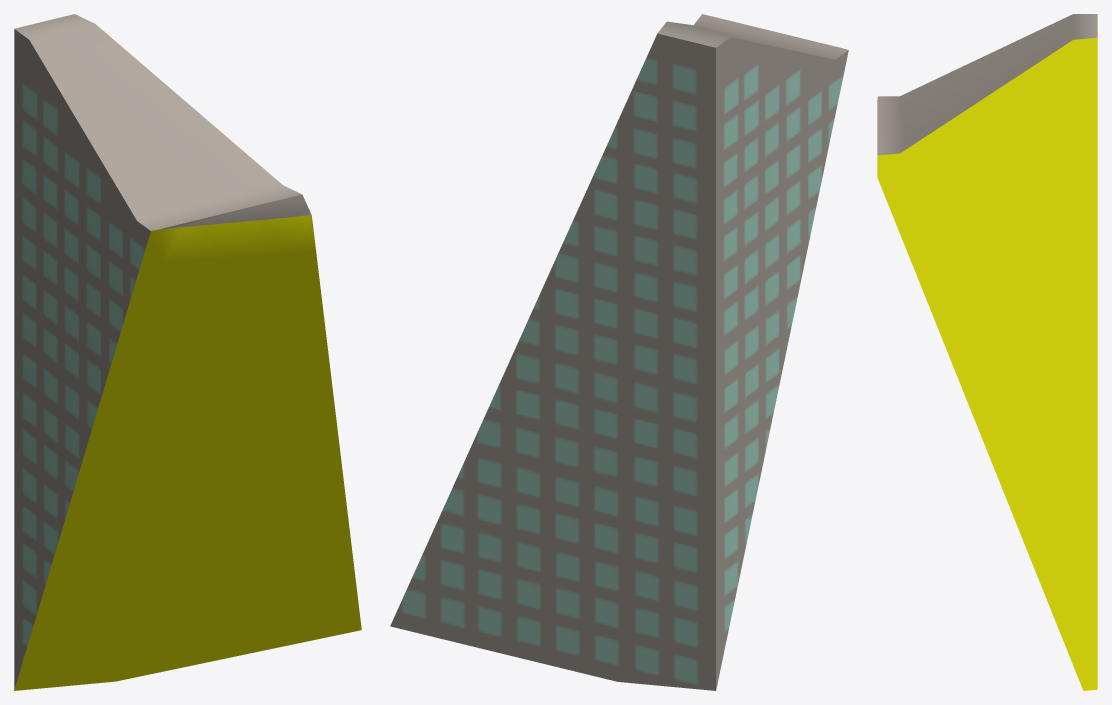
Rendered from c2Shard1.fbx.
The picture shows the model from 3 angles, left to right: view 1: azimuth 30°, elevation 25°; view 2: azimuth 150°, elevation 25°; view 3: azimuth 270°, elevation 25°; orthographic projection. The views are drawn at different scales.
Parts seen in each view (by area): view 1: shard69; view 2: shard69; view 3: shard69.
Part boxes in pixels (x1,y1,x2,y2): shard69: (14,14,361,690); shard69: (390,14,848,690); shard69: (877,14,1097,690).
Size of the model in its own units: 0.1309 by 0.2501 by 0.0917.
Materials: 2 (1 with a texture image).
